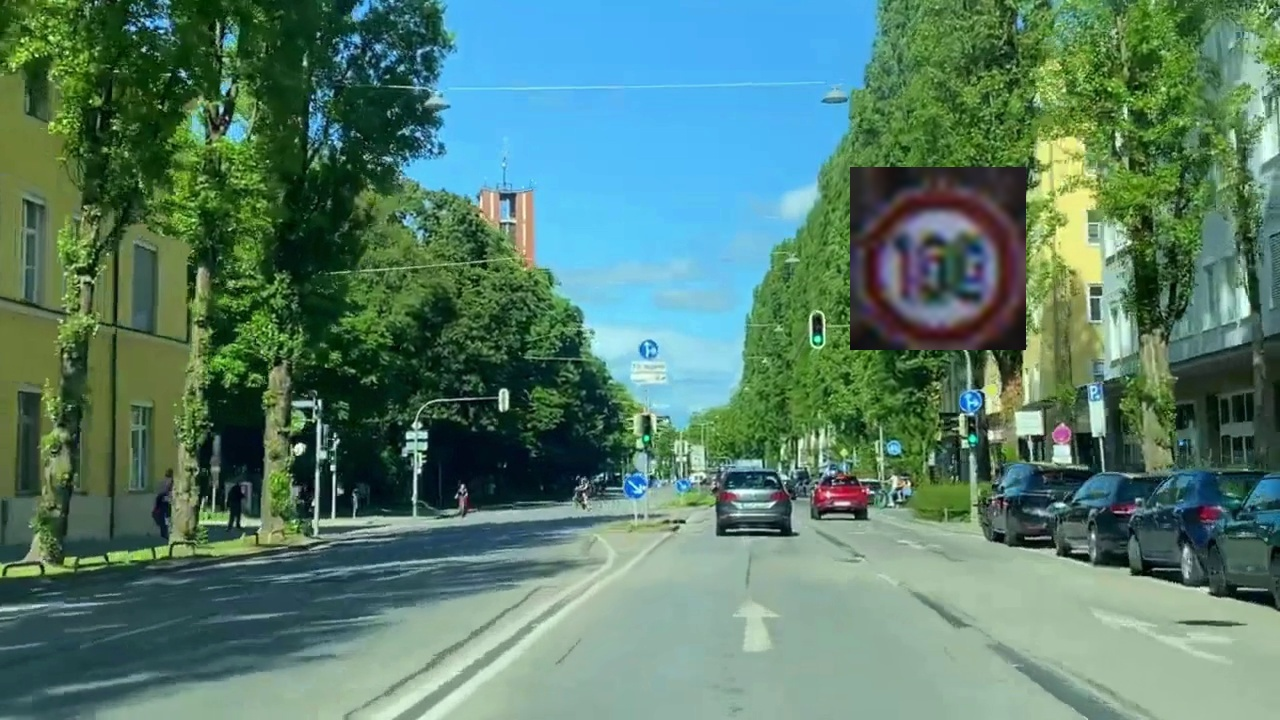Speed 100: (850, 167, 1026, 350)
